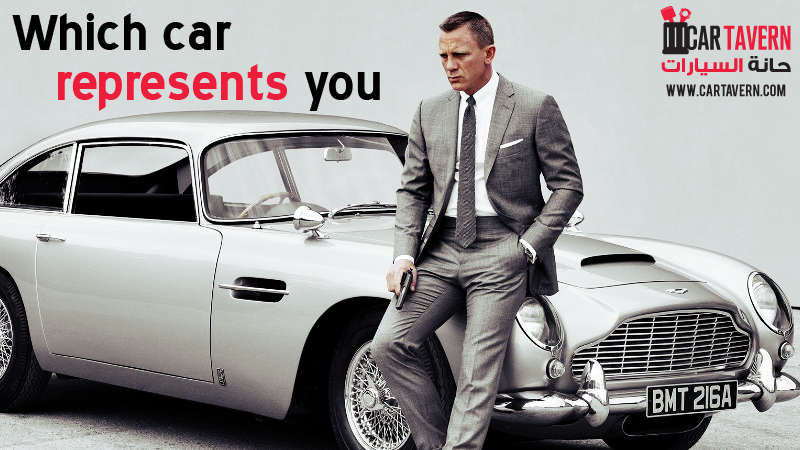car: (35, 97, 771, 430)
person: (376, 12, 589, 444)
